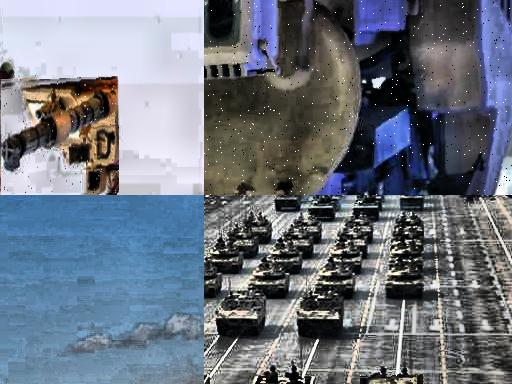tanks: (205, 1, 512, 196), (3, 77, 120, 194), (330, 217, 374, 275), (216, 291, 266, 337), (299, 292, 344, 337), (230, 214, 272, 259), (250, 258, 291, 298), (318, 259, 355, 298), (207, 239, 244, 275), (386, 267, 422, 300), (255, 372, 316, 384), (205, 262, 222, 298), (361, 376, 426, 384)
